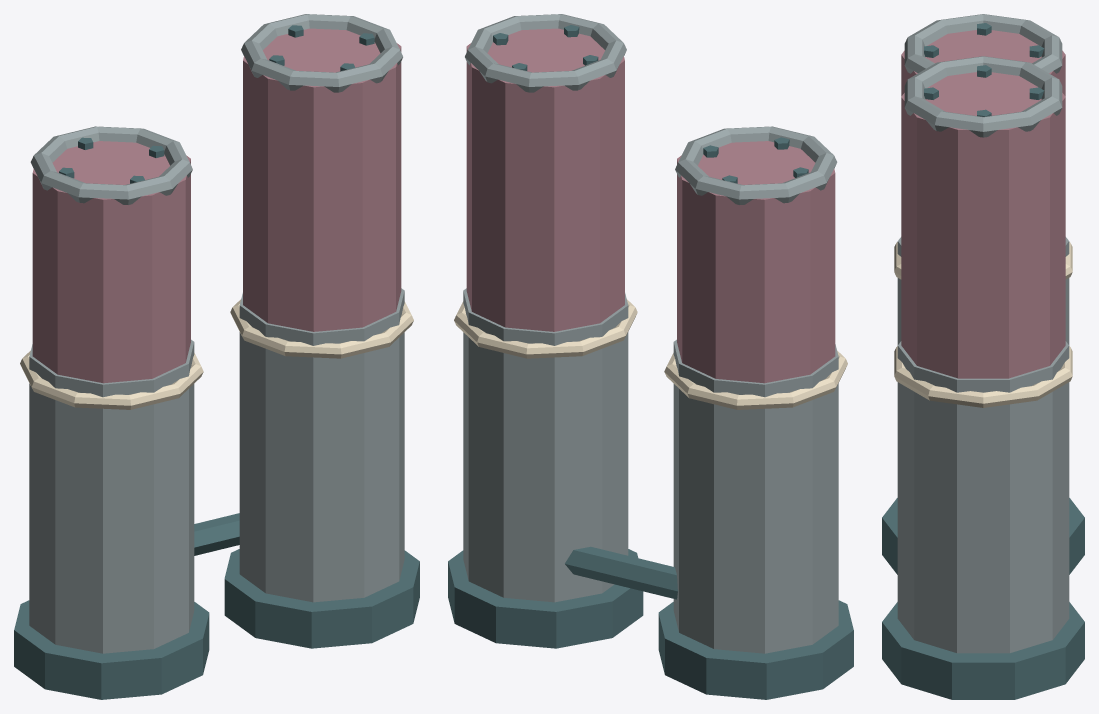
Rendered from marker_ammo_shells.glb.
3 renders of one model, left to right at view 1: azimuth 30°, elevation 25°; view 2: azimuth 150°, elevation 25°; view 3: azimuth 270°, elevation 25°, orthographic.
Parts seen in each view (by area): view 1: marker_ammo_shells_steel, marker_ammo_shells_skin, marker_ammo_shells_iron, marker_ammo_shells_bone; view 2: marker_ammo_shells_steel, marker_ammo_shells_skin, marker_ammo_shells_iron, marker_ammo_shells_bone; view 3: marker_ammo_shells_steel, marker_ammo_shells_skin, marker_ammo_shells_iron, marker_ammo_shells_bone.
Part boxes in pixels (x1,y1,x2,y2): marker_ammo_shells_steel: (29,14,404,653); marker_ammo_shells_skin: (32,28,401,383); marker_ammo_shells_iron: (14,25,419,699); marker_ammo_shells_bone: (20,299,413,409); marker_ammo_shells_steel: (463,14,838,653); marker_ammo_shells_skin: (466,28,835,383); marker_ammo_shells_iron: (448,25,853,699); marker_ammo_shells_bone: (454,299,847,409); marker_ammo_shells_steel: (897,14,1069,653); marker_ammo_shells_skin: (901,30,1065,378); marker_ammo_shells_iron: (882,23,1084,699); marker_ammo_shells_bone: (894,242,1072,407).
Bounding box in the file's own units: 0.6415 × 0.921 × 0.296.
